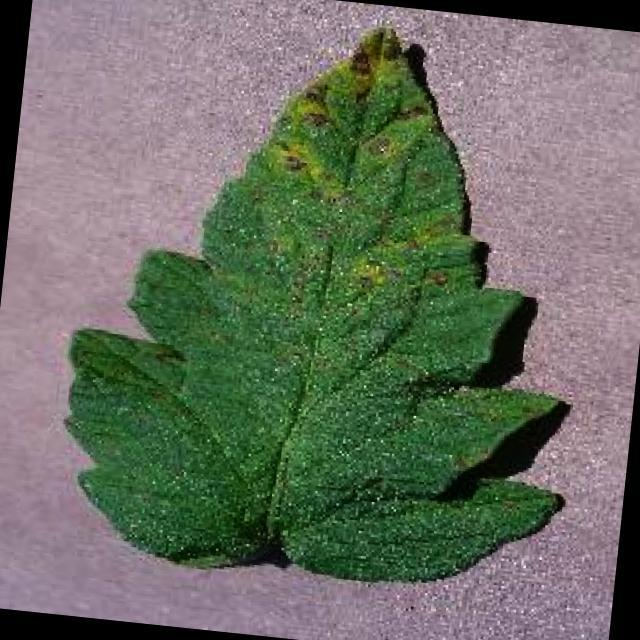Tomato Septoria spot leaf: (44, 0, 614, 608)
